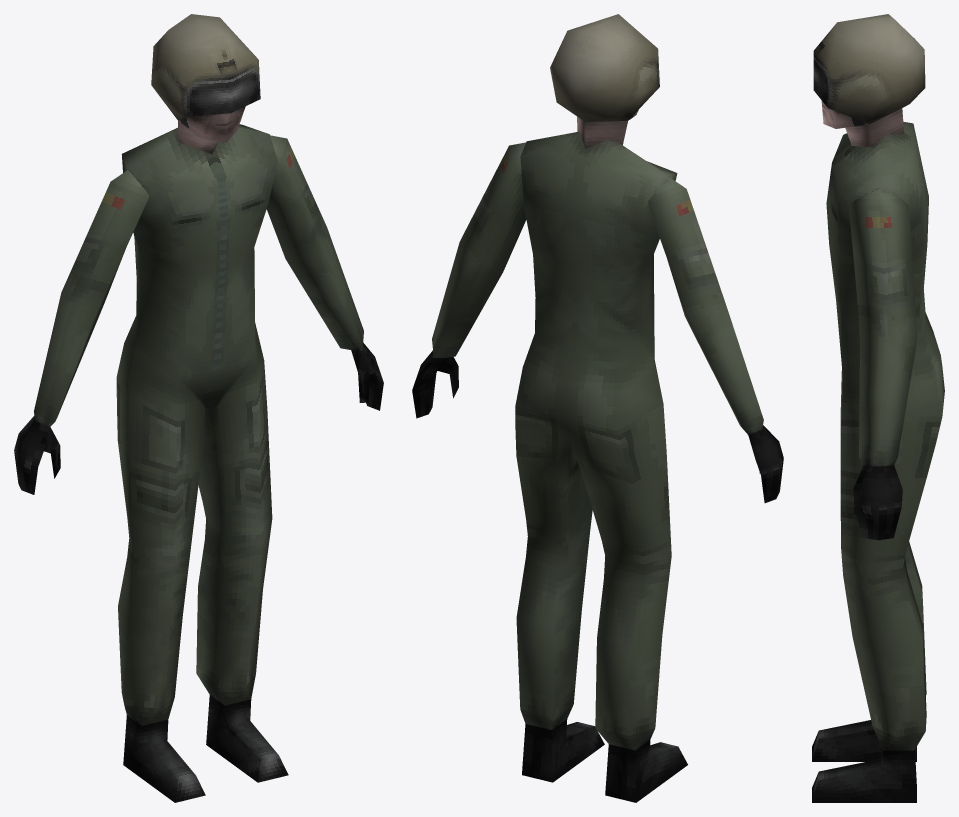
The model's file is PILOT.glb.
3 renders of one model, left to right at view 1: azimuth 30°, elevation 25°; view 2: azimuth 150°, elevation 25°; view 3: azimuth 270°, elevation 25°, orthographic.
Parts seen in each view (by area): view 1: Head; view 2: Head; view 3: Head.
Part boxes in pixels (left/top/right/bottom): Head: left=14, top=14, right=383, bottom=802; Head: left=412, top=14, right=783, bottom=802; Head: left=812, top=14, right=944, bottom=802.
Bounding box in the file's own units: 1.06 × 2.09 × 0.3333.
Materials: 1 (1 with a texture image).
